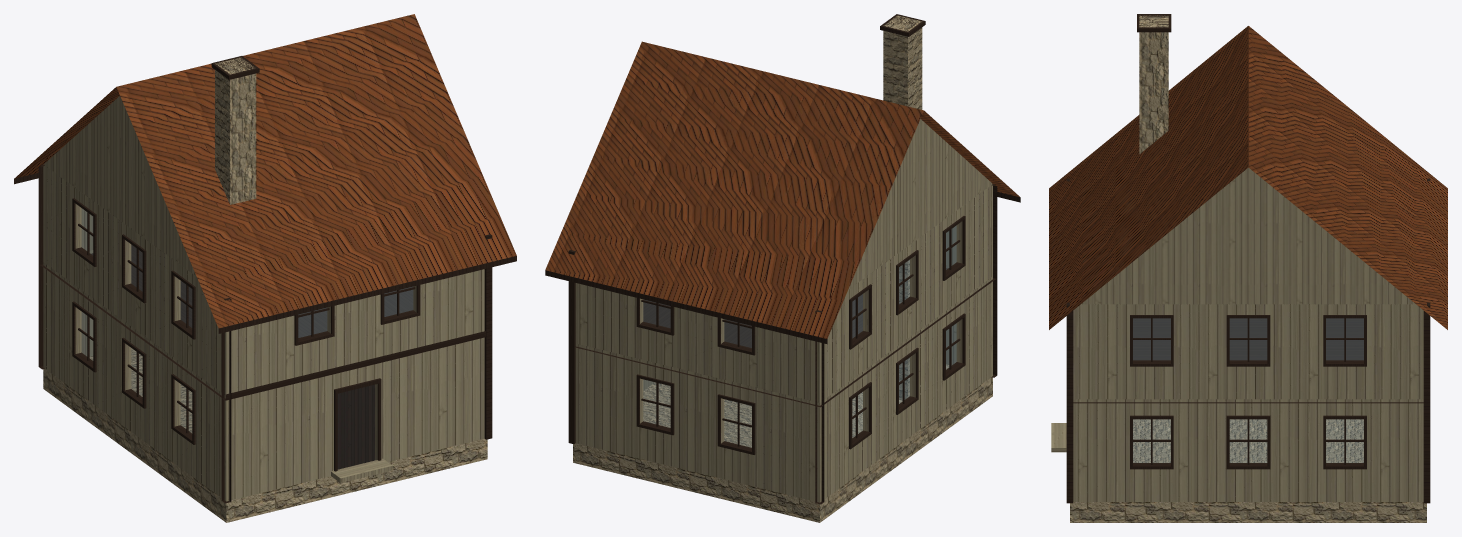
The model's file is eu_house_01.glb.
3 views of the same model, side by side, from view 1: azimuth 30°, elevation 25°; view 2: azimuth 150°, elevation 25°; view 3: azimuth 270°, elevation 25° (orthographic). The views are drawn at different scales.
Visible parts, largest first — view 1: eu_house_01; view 2: eu_house_01; view 3: eu_house_01.
Part boxes in pixels (x1=…): eu_house_01: x1=14, y1=14, x2=516, y2=522; eu_house_01: x1=545, y1=14, x2=1020, y2=522; eu_house_01: x1=1049, y1=14, x2=1447, y2=522.
Size of the model in its own units: 8 by 10.58 by 9.5.
6 materials, 5 textured.
